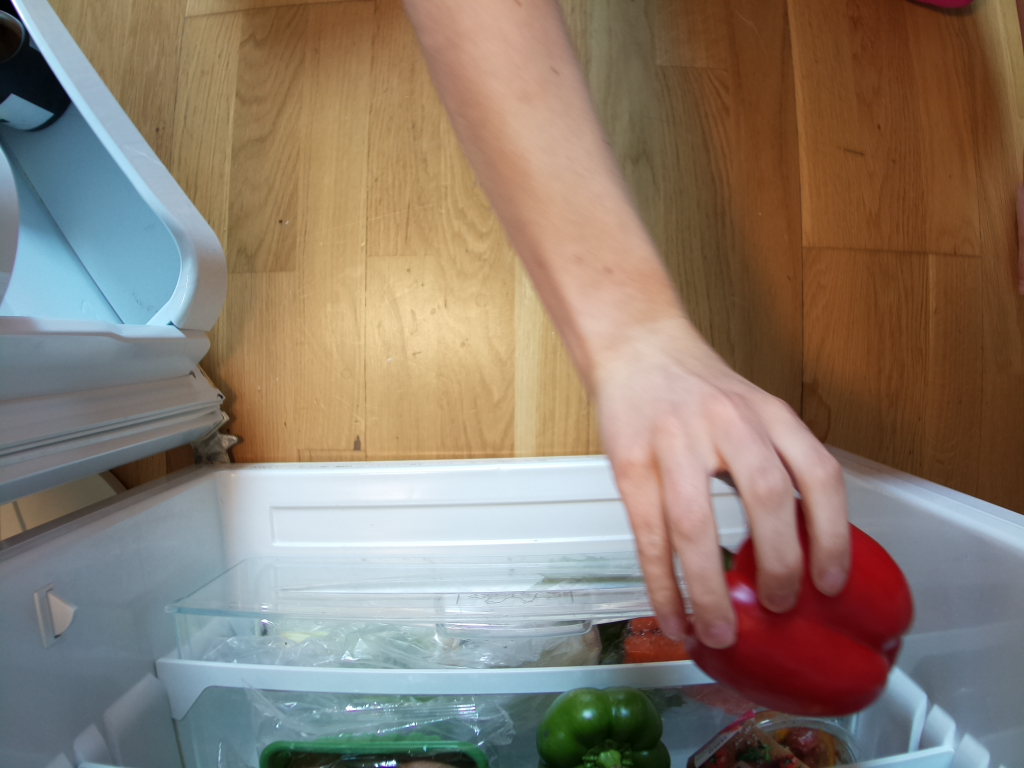pepper: (688, 499, 914, 717), (533, 687, 672, 768)
